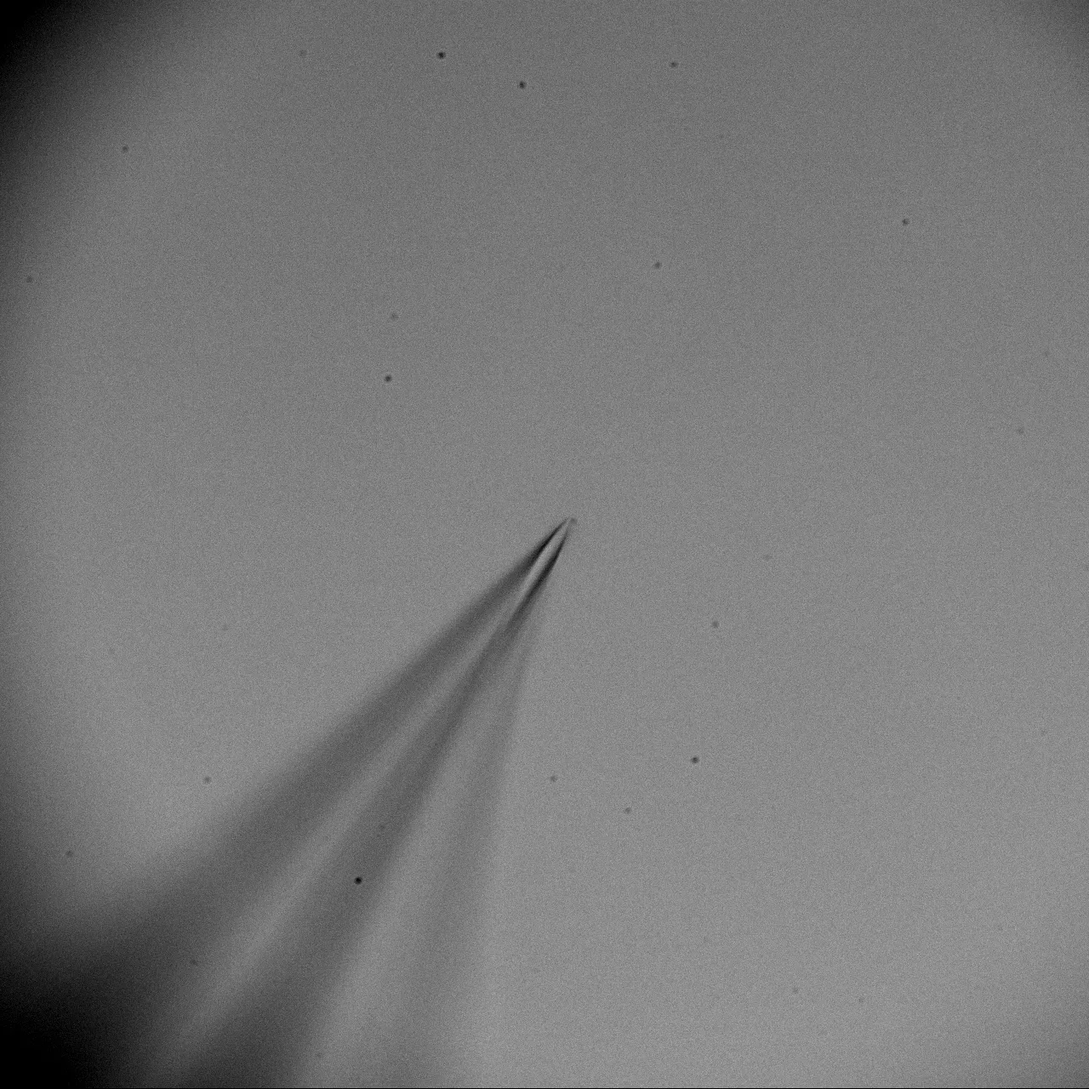tip: (503, 501, 584, 616)
